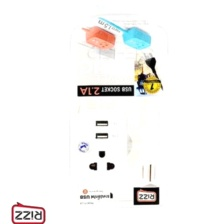book: (63, 11, 174, 212)
three_eye_plug: (71, 106, 131, 195)
